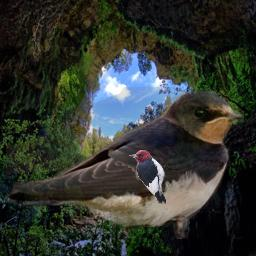Swallow: (6, 87, 244, 239)
Woodpecker: (129, 150, 166, 204)
